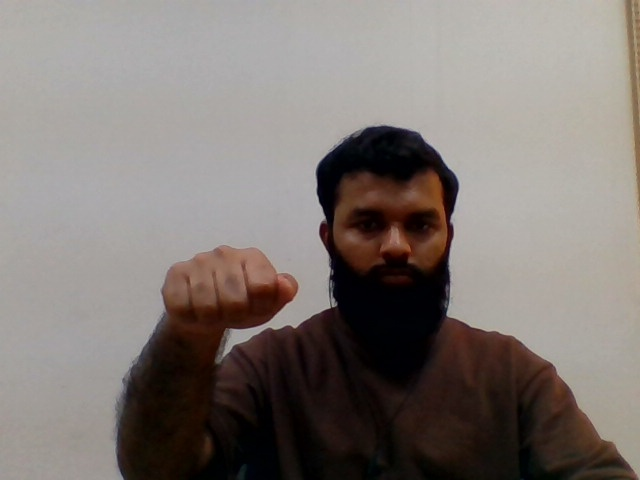Yes: (137, 228, 313, 337)
